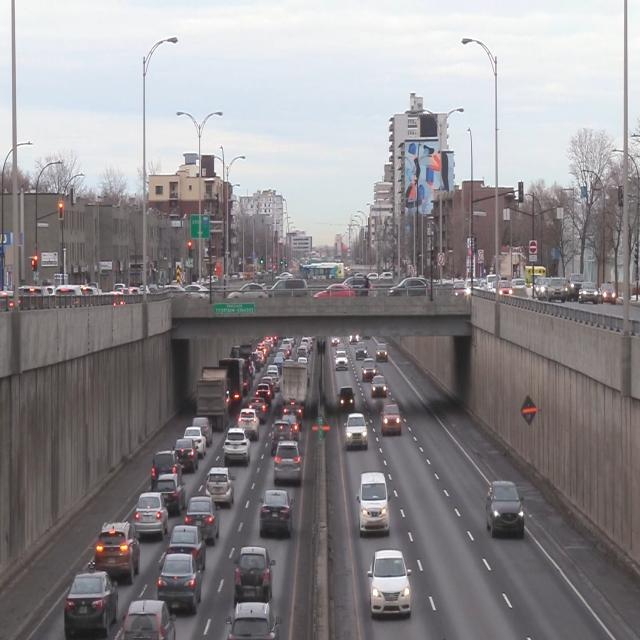Vehicle: (63, 574, 117, 636), (367, 545, 412, 619), (99, 517, 139, 579), (232, 545, 273, 604), (156, 556, 200, 608), (123, 597, 174, 640), (356, 472, 390, 536), (484, 480, 522, 534), (166, 524, 208, 564), (134, 492, 167, 539), (258, 489, 291, 534), (183, 498, 217, 539), (206, 466, 238, 505), (157, 473, 184, 511), (377, 399, 403, 436), (345, 413, 367, 450), (336, 385, 357, 413), (370, 377, 388, 401)
